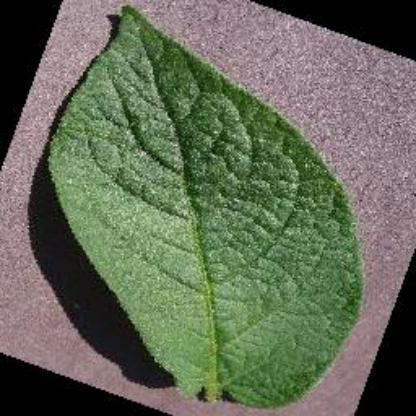Healthy-plant: (46, 1, 364, 409)
